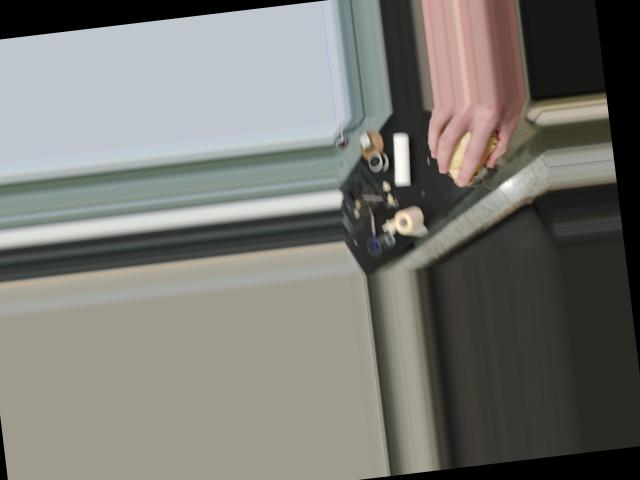onion: (438, 116, 505, 186)
